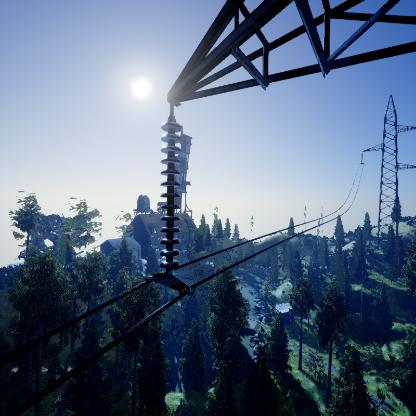insulator: (159, 119, 184, 274)
tower: (358, 90, 416, 246)
